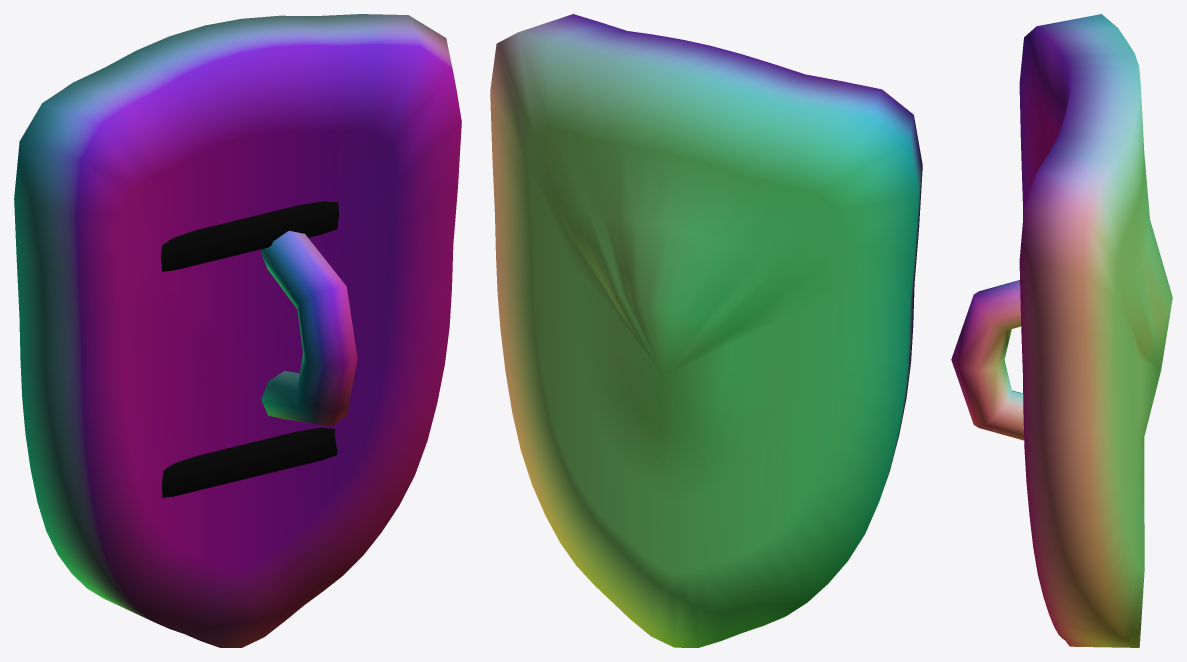
Rendered from SM_Weapon_Shield.fbx.
3 renders of one model, left to right at view 1: azimuth 30°, elevation 25°; view 2: azimuth 150°, elevation 25°; view 3: azimuth 270°, elevation 25°, orthographic. The views are drawn at different scales.
Parts seen in each view (by area): view 1: SM_Weapon_Shield; view 2: SM_Weapon_Shield; view 3: SM_Weapon_Shield.
Part boxes in pixels (bbox=[...]): SM_Weapon_Shield: bbox=[14, 14, 461, 647]; SM_Weapon_Shield: bbox=[490, 14, 922, 647]; SM_Weapon_Shield: bbox=[951, 14, 1172, 647].
Bounding box in the file's own units: 0.4511 × 0.58 × 0.2076.
